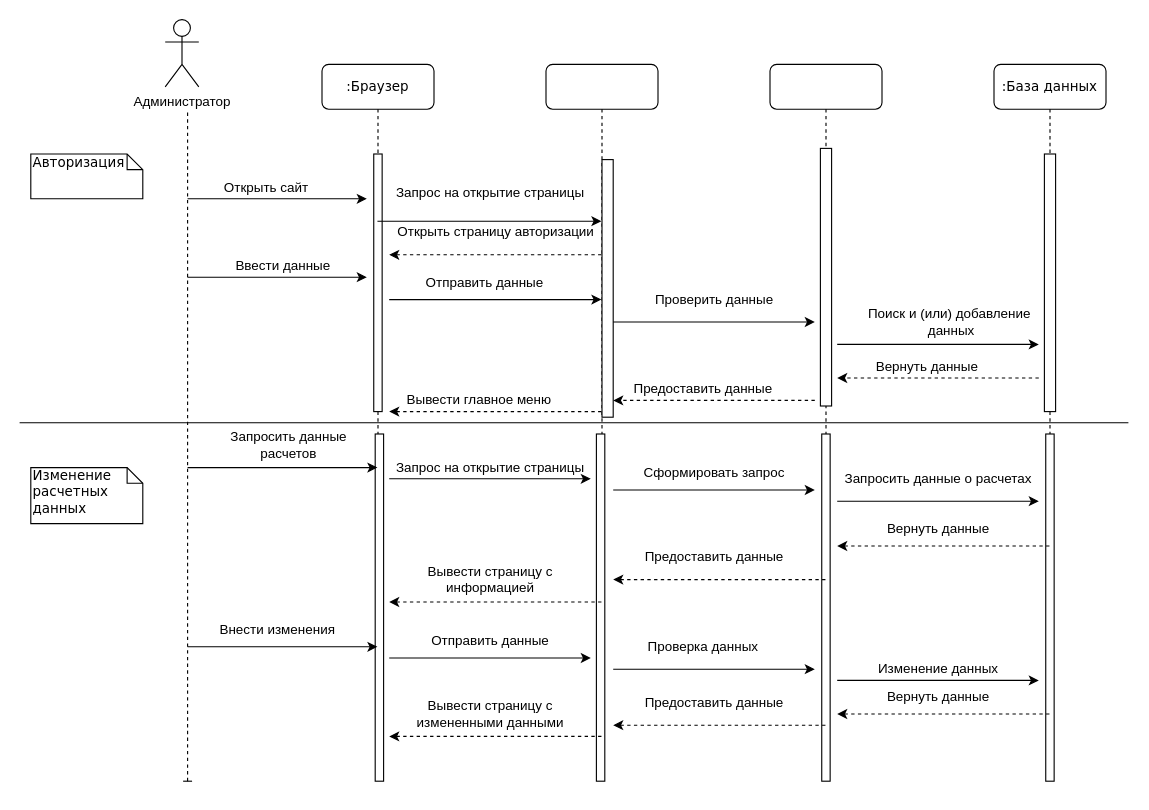
The diagram is 1149 pixels wide and 810 high, and some of its shapes have lost their labels. Here are the shapes that lost their labels. From the top down, the centre of each, then its label:
At (601,422): ":Frontend".
At (825,422): ":Backend".
